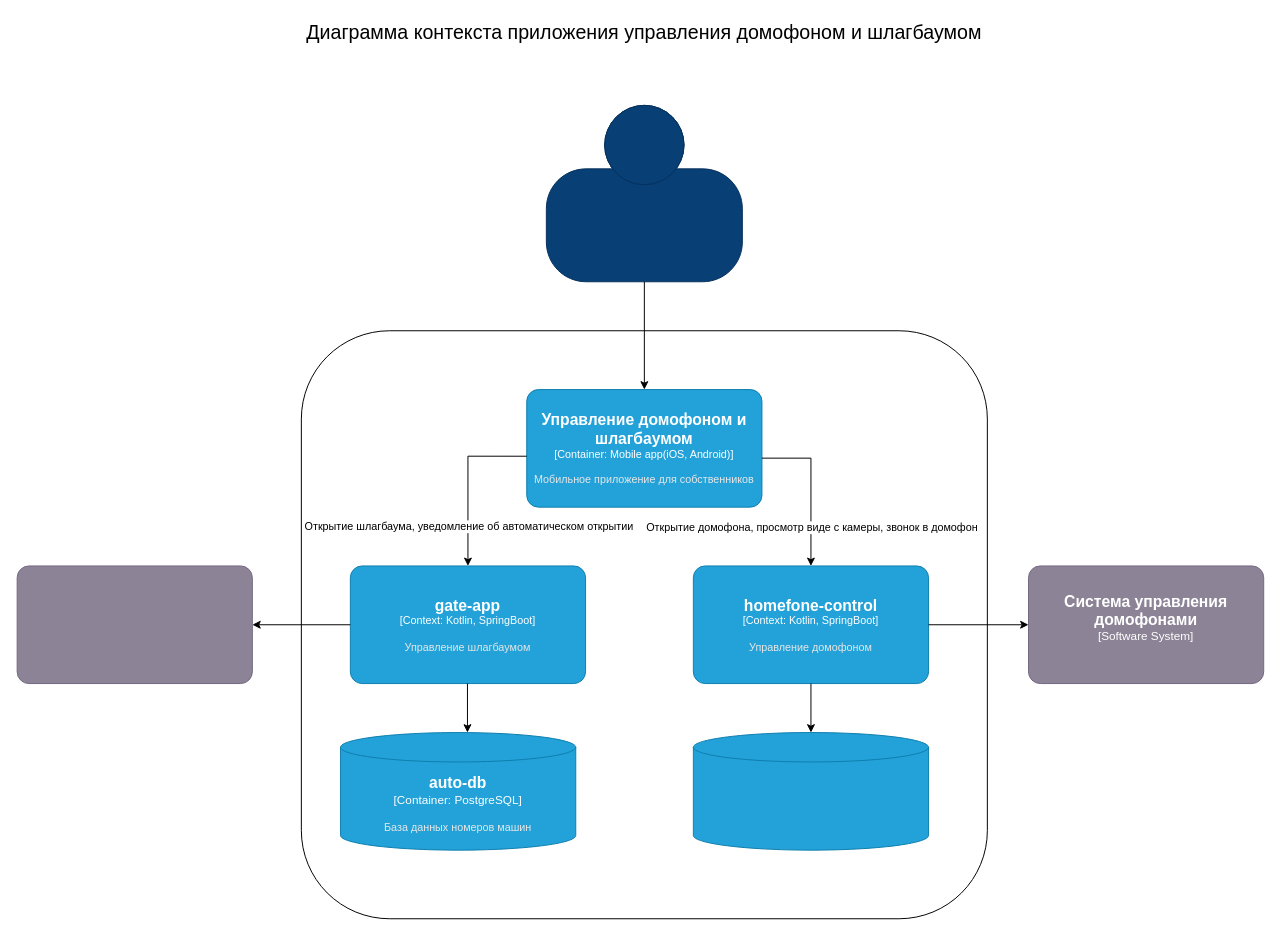
This 1281x936 diagram has some shape labels left out. Here are the shapes that lost their labels. From the top down, the centre of each, then its label:
point (643, 193): Собственник [Person] Клиент
point (134, 624): Система управления шлагбаумами [Software System]
point (810, 791): bio-db [Container: PostgreSQL] База данных биометрии
